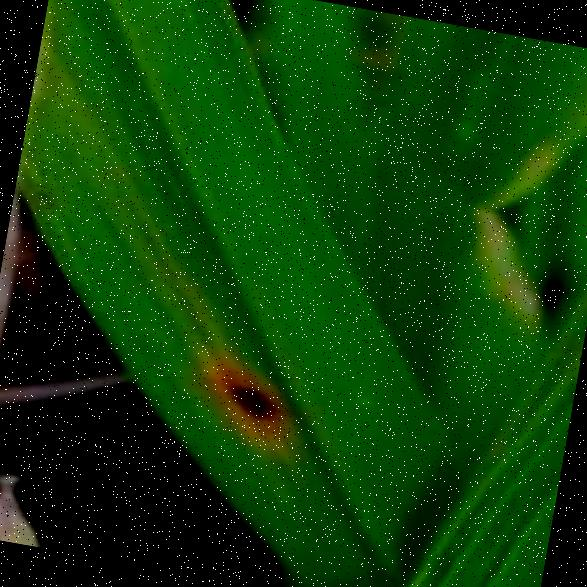Brown_Spot: (198, 360, 296, 431)
